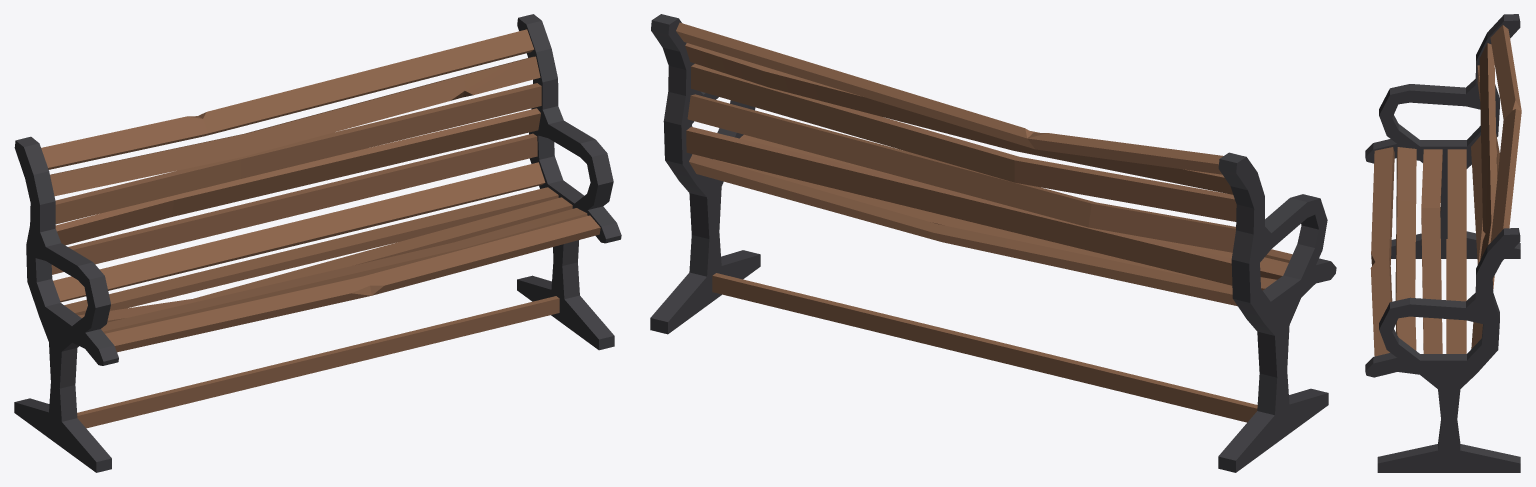
Rendered from bench.glb.
3 views of the same model, side by side, from view 1: azimuth 30°, elevation 25°; view 2: azimuth 150°, elevation 25°; view 3: azimuth 270°, elevation 25° (orthographic). The views are drawn at different scales.
Visible parts, largest first — view 1: SM_Prop_ParkBench_01; view 2: SM_Prop_ParkBench_01; view 3: SM_Prop_ParkBench_01.
Part boxes in pixels (left/top/right/bottom): SM_Prop_ParkBench_01: left=14, top=14, right=621, bottom=472; SM_Prop_ParkBench_01: left=650, top=14, right=1336, bottom=472; SM_Prop_ParkBench_01: left=1365, top=14, right=1521, bottom=472.
Bounding box in the file's own units: 2.08 × 1.05 × 0.6236.
1 material, 1 textured.
